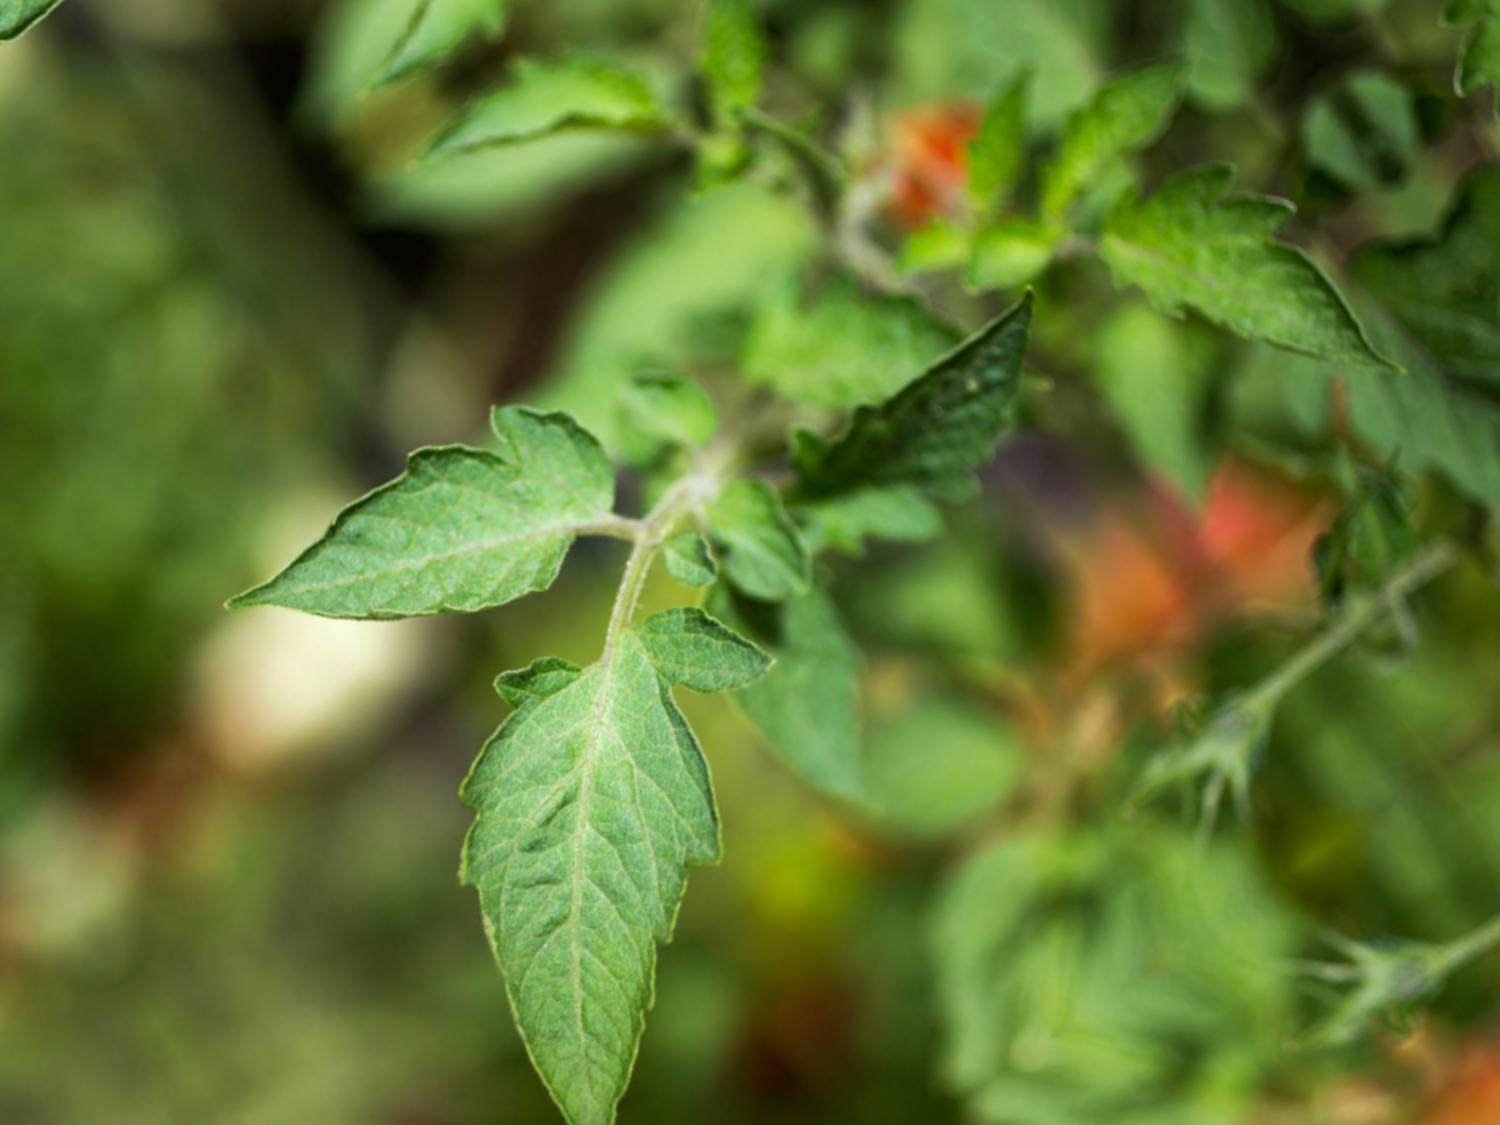Tomato leaf: (281, 581, 939, 1125), (155, 316, 692, 779)
